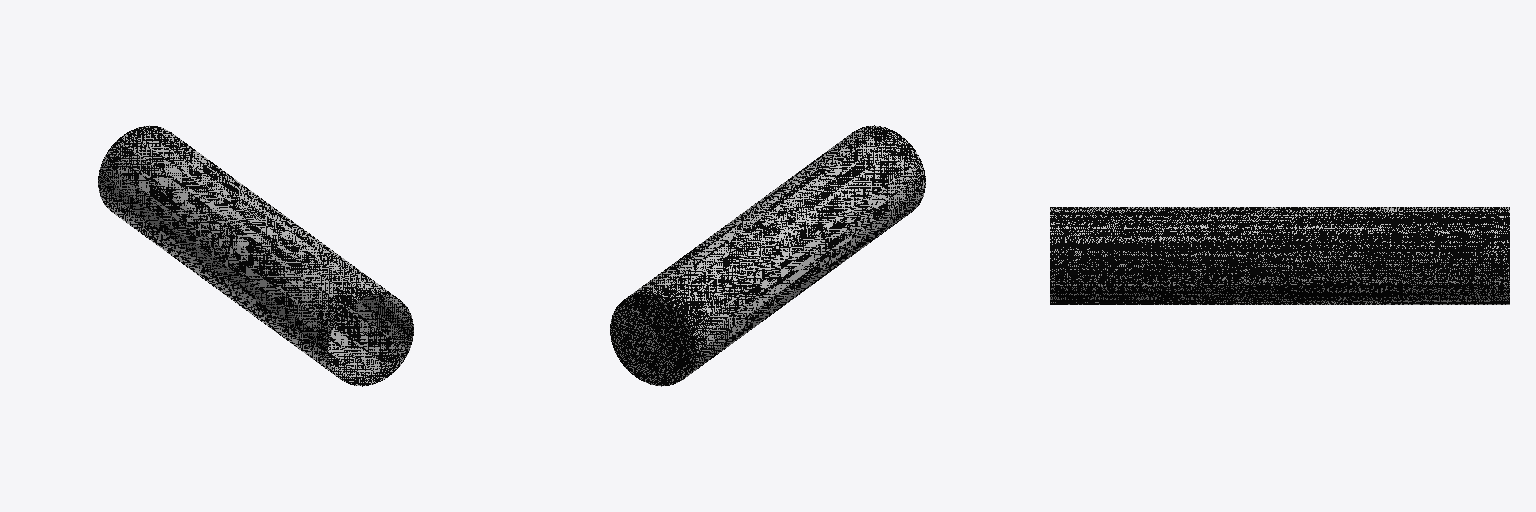
File: original-4.obj
3 views of the same model, side by side, from view 1: azimuth 30°, elevation 25°; view 2: azimuth 150°, elevation 25°; view 3: azimuth 270°, elevation 25° (orthographic).
Parts seen in each view (by area): view 1: 3dw.228b41e91b3eac5e6eed87081bea555c/Model/Group1/mesh1/mesh1-ge; view 2: 3dw.228b41e91b3eac5e6eed87081bea555c/Model/Group1/mesh1/mesh1-ge; view 3: 3dw.228b41e91b3eac5e6eed87081bea555c/Model/Group1/mesh1/mesh1-ge.
Part boxes in pixels (x1,y1,x2,y2): 3dw.228b41e91b3eac5e6eed87081bea555c/Model/Group1/mesh1/mesh1-ge: (98, 125, 413, 386); 3dw.228b41e91b3eac5e6eed87081bea555c/Model/Group1/mesh1/mesh1-ge: (610, 125, 925, 386); 3dw.228b41e91b3eac5e6eed87081bea555c/Model/Group1/mesh1/mesh1-ge: (1050, 207, 1509, 304).
Size of the model in its own units: 0.1336 by 0.1336 by 0.6189.